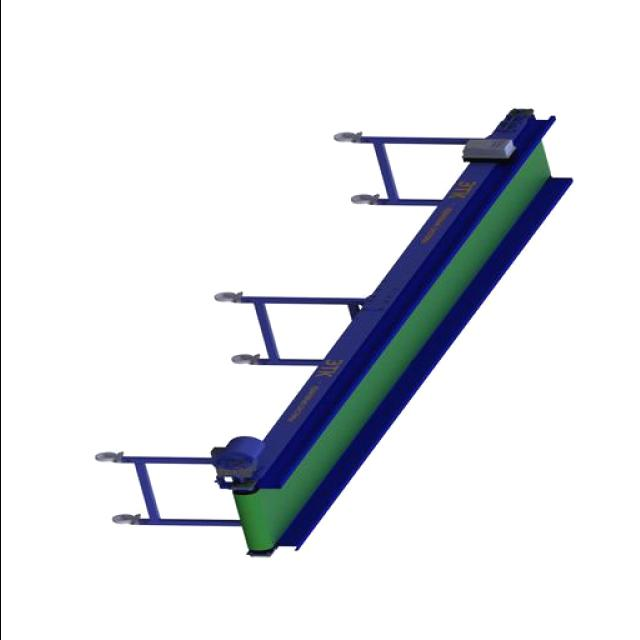conveyor: (243, 131, 559, 562)
